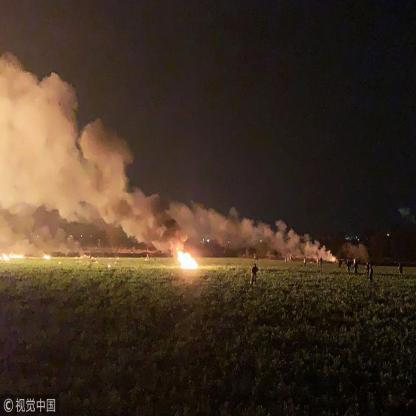fire: (172, 244, 202, 271), (0, 249, 24, 264), (41, 251, 53, 266)
smoke: (5, 64, 174, 246), (186, 199, 330, 262)
